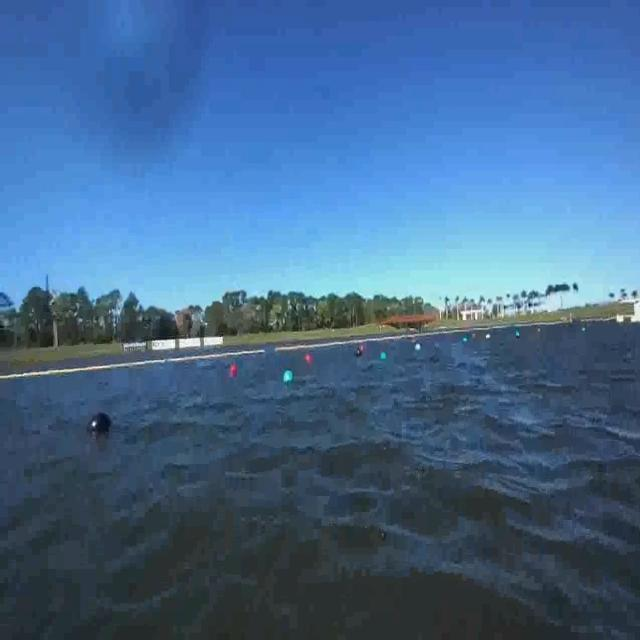black-buoy: (88, 412, 112, 434)
green-buoy: (282, 368, 294, 384)
red-buoy: (232, 363, 239, 376)
